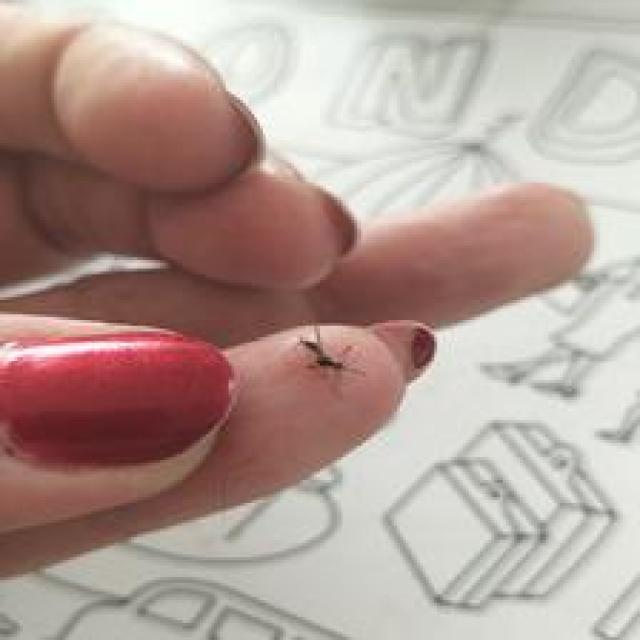Aedes albopictus: (297, 323, 346, 371)
